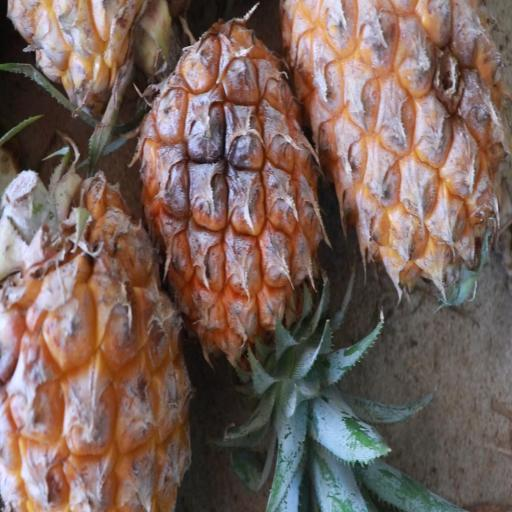Pineapple - v8 v1: (140, 12, 330, 426), (281, 0, 512, 298), (0, 170, 192, 512)
